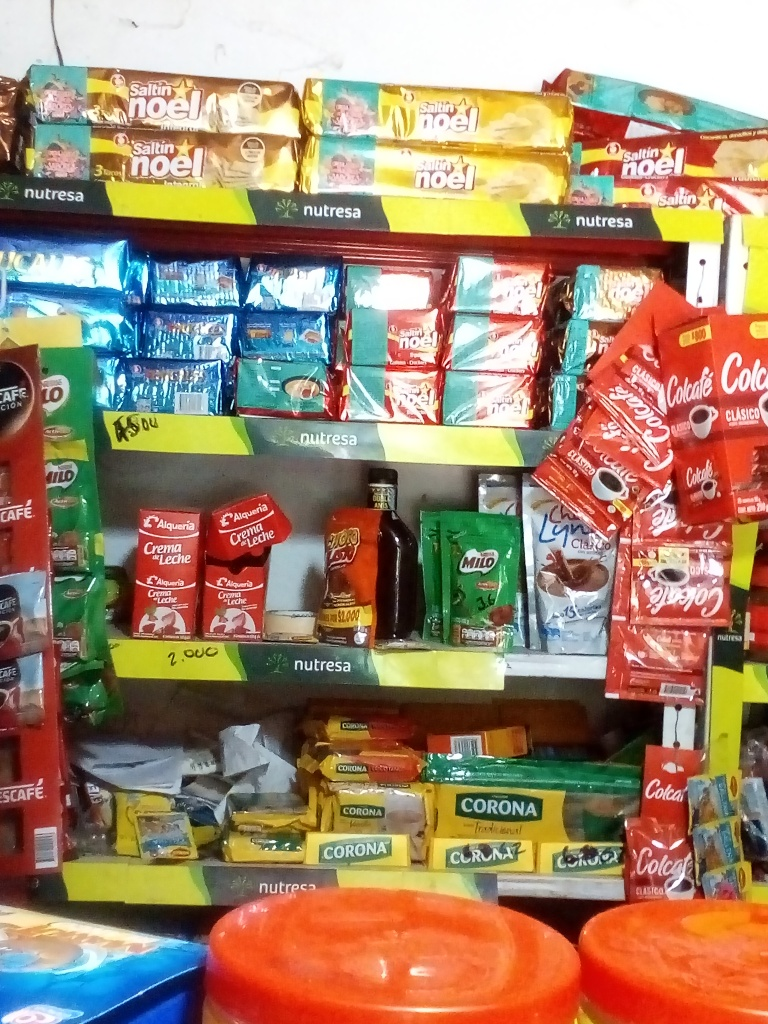COL0170203DYP10000: (432, 508, 523, 650)
